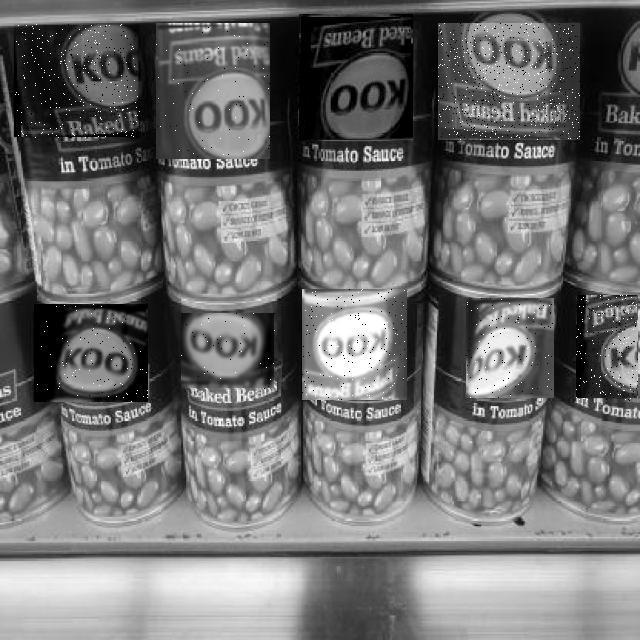Beans: (438, 23, 580, 140), (156, 23, 270, 159), (299, 14, 413, 140), (14, 25, 140, 139), (302, 289, 407, 400), (34, 304, 148, 402), (466, 299, 554, 399), (182, 314, 276, 390), (577, 296, 639, 402)
